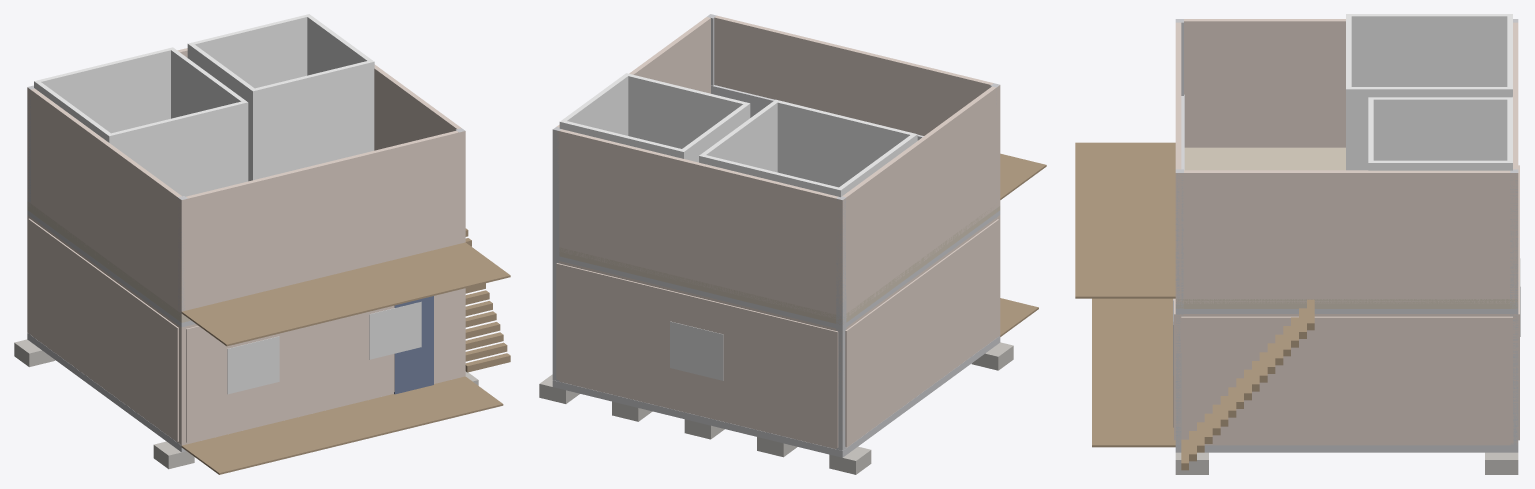
File: Duplex-20-Base-Mauve-LOD3.glb
3 views of the same model, side by side, from view 1: azimuth 30°, elevation 25°; view 2: azimuth 150°, elevation 25°; view 3: azimuth 270°, elevation 25° (orthographic). The views are drawn at different scales.
Parts seen in each view (by area): view 1: ExteriorShellUpper, ExteriorPanelsStandard, StudyUpper, BedroomUpper, BalconyUpper, BalconyGround, WindowsStandard, StaircaseExternal, ExteriorShell, EntryDoor, FoundationBlocks, FloorUpper (+3 smaller); view 2: ExteriorShellUpper, ExteriorPanelsStandard, BedroomUpper, StudyUpper, FloorUpper, VerticalStructure, FoundationBlocks, BaseFrame, ExteriorShell, WindowsStandard, TopFrame, BalconyUpper (+2 smaller); view 3: ExteriorShellUpper, ExteriorPanelsStandard, BalconyUpper, BedroomUpper, BalconyGround, StudyUpper, FloorUpper, StaircaseExternal, ExteriorShell, VerticalStructure, BaseFrame, TopFrame (+1 smaller).
Boxes of the visible parts, x1,y1,x2,y2 form: ExteriorShellUpper: [27, 48, 465, 315]; ExteriorPanelsStandard: [28, 218, 461, 442]; StudyUpper: [187, 14, 374, 181]; BedroomUpper: [34, 47, 248, 196]; BalconyUpper: [181, 242, 510, 346]; BalconyGround: [181, 376, 503, 474]; WindowsStandard: [227, 301, 421, 394]; StaircaseExternal: [465, 228, 510, 372]; ExteriorShell: [27, 214, 465, 445]; EntryDoor: [394, 296, 433, 394]; FoundationBlocks: [14, 339, 478, 469]; FloorUpper: [27, 201, 190, 322]; ExteriorShellUpper: [553, 15, 1000, 320]; ExteriorPanelsStandard: [556, 219, 999, 447]; BedroomUpper: [699, 99, 917, 197]; StudyUpper: [559, 73, 750, 162]; FloorUpper: [559, 206, 1000, 324]; VerticalStructure: [552, 14, 999, 450]; FoundationBlocks: [539, 342, 1013, 474]; BaseFrame: [552, 336, 1000, 457]; ExteriorShell: [559, 215, 1000, 448]; WindowsStandard: [670, 321, 723, 380]; TopFrame: [559, 210, 1000, 329]; BalconyUpper: [1000, 153, 1046, 199]; ExteriorShellUpper: [1175, 19, 1518, 303]; ExteriorPanelsStandard: [1174, 165, 1519, 443]; BalconyUpper: [1075, 142, 1175, 298]; BedroomUpper: [1346, 14, 1512, 170]; BalconyGround: [1092, 298, 1175, 447]; StudyUpper: [1368, 97, 1512, 170]; FloorUpper: [1176, 147, 1518, 308]; StaircaseExternal: [1181, 299, 1314, 470]; ExteriorShell: [1175, 314, 1518, 445]; VerticalStructure: [1175, 19, 1518, 445]; BaseFrame: [1175, 445, 1518, 452]; TopFrame: [1175, 309, 1518, 313].
Size of the model in its own units: 7.94 by 6 by 8.
